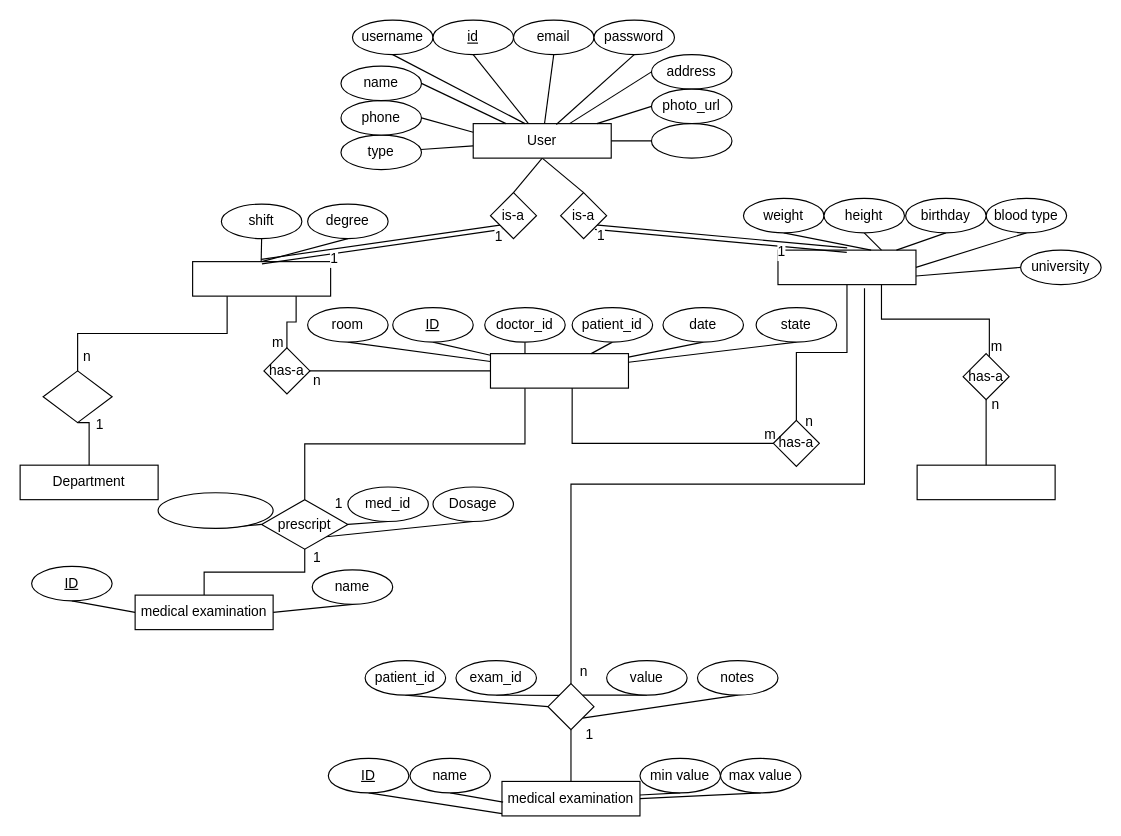
Some shapes in this 1121 by 836 pixel diagram are drawn without their labels. Each missing label, with the centre of its shape:
"appointement_id" goes at (x=215, y=510).
"Appointemnt" goes at (x=558, y=370).
"Disease" goes at (x=985, y=482).
"Doctor" goes at (x=261, y=278).
"has a" goes at (x=570, y=706).
"Patient" goes at (x=846, y=267).
"sex" goes at (x=691, y=140).
"works in" goes at (x=77, y=396).
